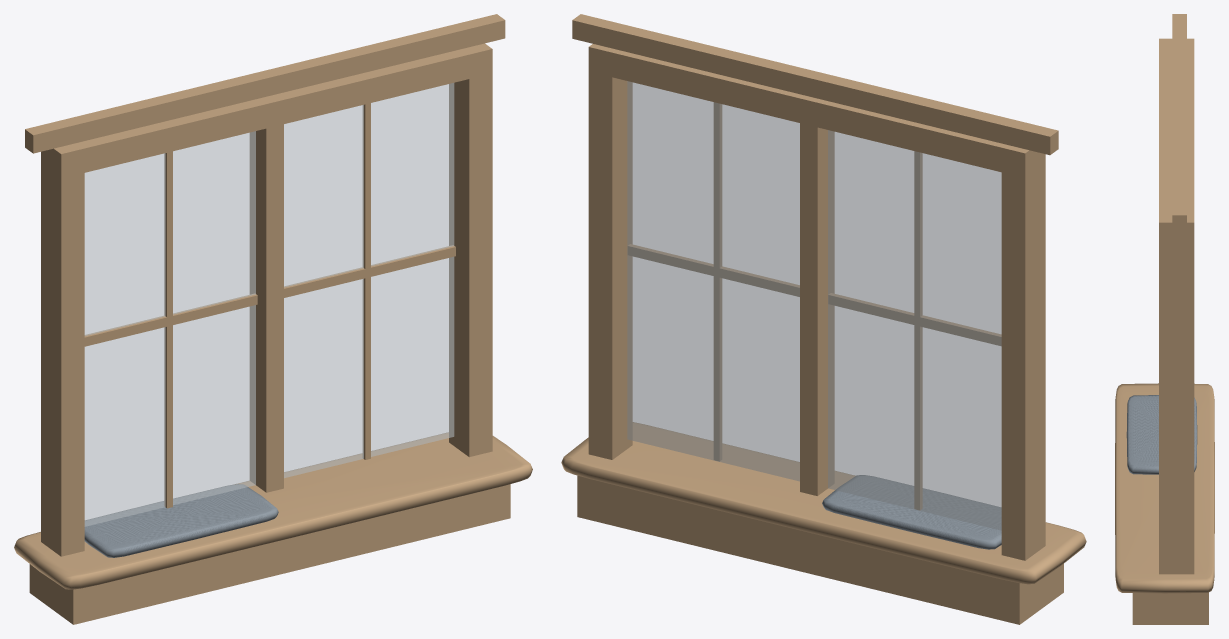
File: pets-and-companions-hd-window-with-sill-e27a4982__28184.glb
3 renders of one model, left to right at view 1: azimuth 30°, elevation 25°; view 2: azimuth 150°, elevation 25°; view 3: azimuth 270°, elevation 25°, orthographic. The views are drawn at different scales.
Visible parts, largest first — view 1: window-with-sill; view 2: window-with-sill; view 3: window-with-sill.
Boxes of the visible parts, x1,y1,x2,y2 form: window-with-sill: [14, 14, 532, 624]; window-with-sill: [561, 14, 1086, 624]; window-with-sill: [1115, 14, 1214, 624].
Bounding box in the file's own units: 1.62 × 1.57 × 0.3399.
3 materials, 1 textured.
